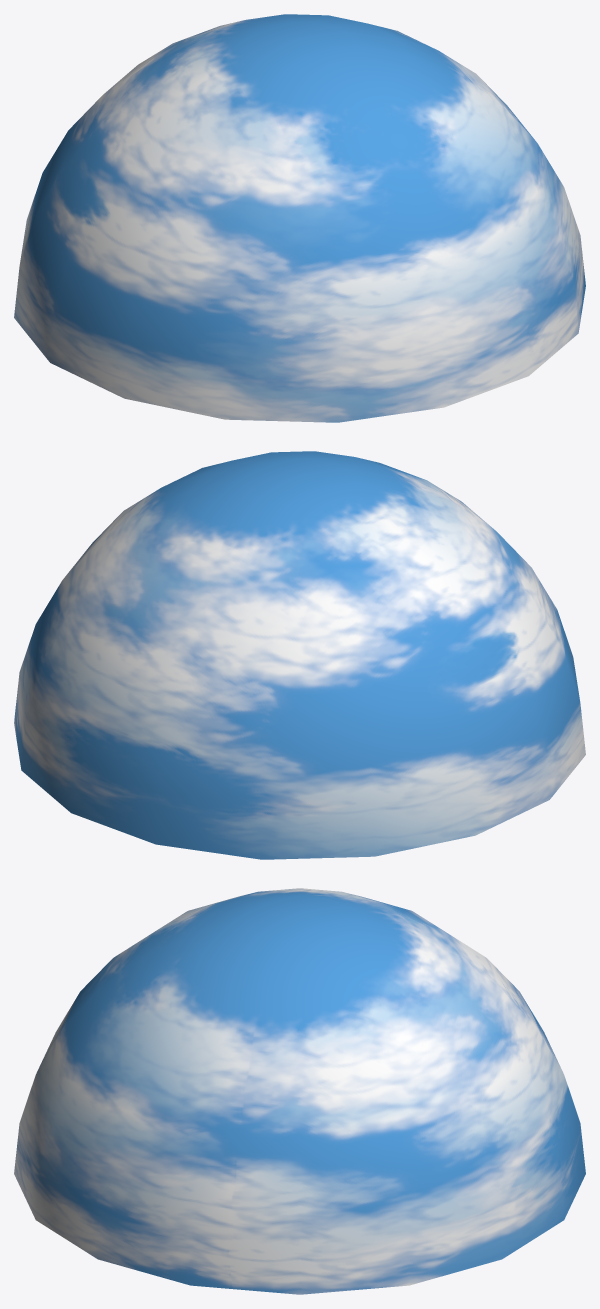
Rendered from SkySplashlock.fbx.
3 views of the same model, one above another, from view 1: azimuth 30°, elevation 25°; view 2: azimuth 150°, elevation 25°; view 3: azimuth 270°, elevation 25° (orthographic).
Parts seen in each view (by area): view 1: Sphere; view 2: Sphere; view 3: Sphere.
Boxes of the visible parts, x1,y1,x2,y2 form: Sphere: [14, 14, 585, 422]; Sphere: [14, 451, 585, 859]; Sphere: [14, 888, 585, 1294].
Size of the model in its own units: 200 by 100 by 200.
Materials: 1 (1 with a texture image).
